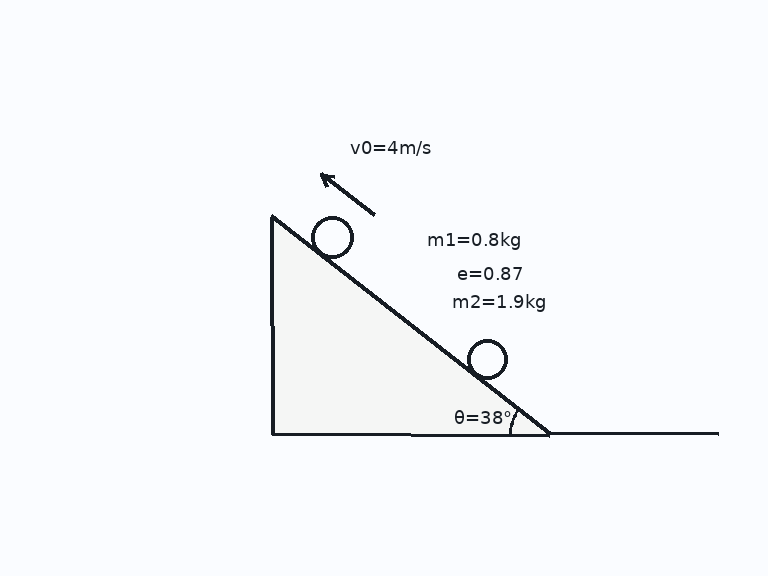ball: (309, 214, 355, 260), (465, 337, 509, 381)
ramp: (270, 215, 552, 436)
